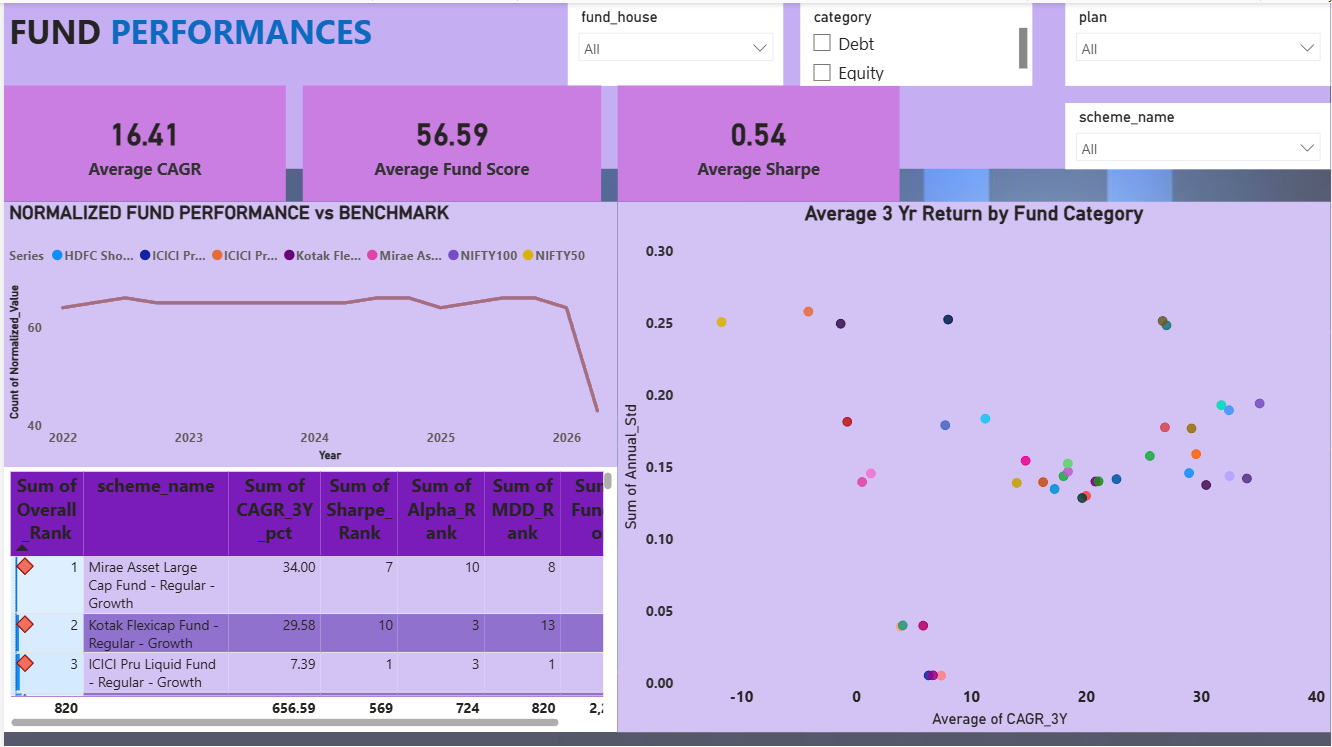

The page's visual inventory and layout, read from the dashboard file:
{"tool":"powerbi","page":{"name":"Fund Performance","canvas":[1280,720],"ordinal":1},"visuals":[{"type":"tableEx","fields":{"Values":["Sum(Fund_Scorecard.Overall_Rank)","Fund_Scorecard.scheme_name","Sum(Fund_Scorecard.CAGR_3Y_pct)","Sum(Fund_Scorecard.Sharpe_Rank)","Sum(Fund_Scorecard.Alpha_Rank)","Sum(Fund_Scorecard.MDD_Rank)","Sum(Fund_Scorecard.Fund_Score)"]},"box":[0,448,592,256],"z":0},{"type":"scatterChart","title":"Average 3 Yr Return by Fund Category","fields":{"X":["Avg(CAGR_Metrics.CAGR_3Y)"],"Y":["Sum(Sharpe_Ratio.Annual_Std)"],"Series":["Sharpe_Ratio.scheme_name"]},"box":[592,192,688,512],"z":1000},{"type":"lineChart","title":"NORMALIZED FUND PERFORMANCE vs BENCHMARK","fields":{"Category":["normalized_benchmark_performance.date.Variation.Date Hierarchy.Year","normalized_benchmark_performance.date.Variation.Date Hierarchy.Quarter","normalized_benchmark_performance.date.Variation.Date Hierarchy.Month","normalized_benchmark_performance.date.Variation.Date Hierarchy.Day"],"Y":["CountNonNull(normalized_benchmark_performance.Normalized_Value)"],"Series":["normalized_benchmark_performance.Series"]},"box":[0,192,592,256],"z":2000},{"type":"textbox","box":[0,0,1280,160],"z":3000},{"type":"slicer","fields":{"Values":["Aum_by_Fund_house.fund_house"]},"box":[544,0,208,80],"z":4000},{"type":"card","fields":{"Values":["Alpha_Beta.Average CAGR"]},"box":[0,80,272,112],"z":5000},{"type":"card","fields":{"Values":["Alpha_Beta.Average Fund Score"]},"box":[288,80,288,112],"z":6000},{"type":"card","fields":{"Values":["Alpha_Beta.Average Sharpe"]},"box":[592,80,272,112],"z":7000},{"type":"slicer","fields":{"Values":["fund_master.category"]},"box":[768,0,224,80],"z":8000},{"type":"slicer","fields":{"Values":["fund_master.plan"]},"box":[1024,0,256,80],"z":9000},{"type":"slicer","fields":{"Values":["Alpha_Beta.scheme_name"]},"box":[1024,96,256,64],"z":10000}]}

Visuals, with their boxes in screenshot pixels (x1, y1, x2, y2), scaled from the page's 1280x720 canvas onto the 1332x747 screenshot:
tableEx - Sum(Fund_Scorecard.Overall_Rank) x Fund_Scorecard.scheme_name: BBox(0, 465, 616, 730)
"Average 3 Yr Return by Fund Category" scatterChart: BBox(616, 199, 1331, 730)
"NORMALIZED FUND PERFORMANCE vs BENCHMARK" lineChart: BBox(0, 199, 616, 465)
textbox: BBox(0, 0, 1331, 166)
slicer - Aum_by_Fund_house.fund_house: BBox(566, 0, 783, 83)
card - Alpha_Beta.Average CAGR: BBox(0, 83, 283, 199)
card - Alpha_Beta.Average Fund Score: BBox(300, 83, 599, 199)
card - Alpha_Beta.Average Sharpe: BBox(616, 83, 899, 199)
slicer - fund_master.category: BBox(799, 0, 1032, 83)
slicer - fund_master.plan: BBox(1066, 0, 1331, 83)
slicer - Alpha_Beta.scheme_name: BBox(1066, 100, 1331, 166)
